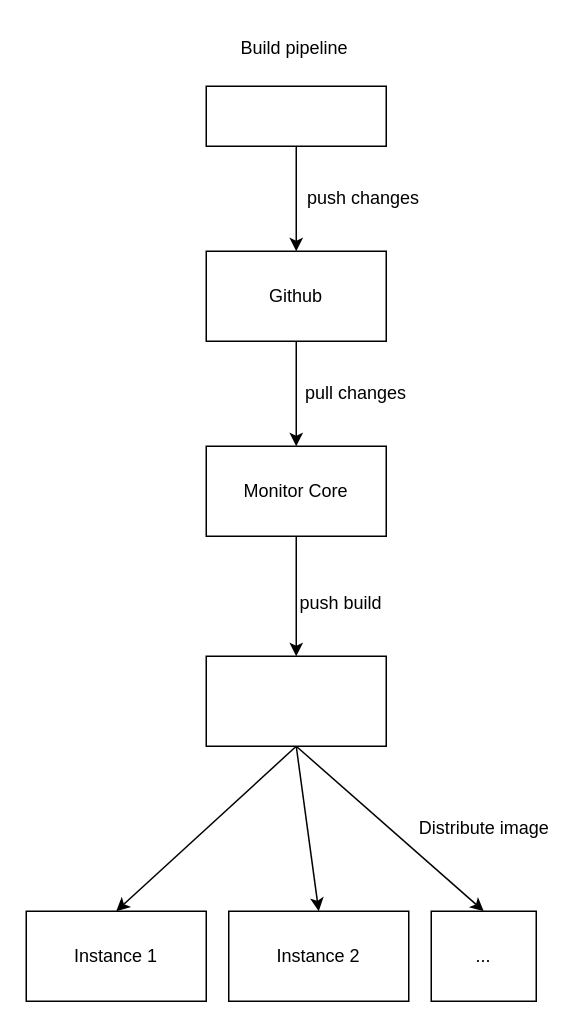
The diagram is 588 pixels wide and 1028 high, and some of its shapes have lost their labels. The shapes that lost their labels are listed below. From the top down, each one's centre as x and y in pixels, then its label:
point 295,115: Dev / Trader
point 295,700: Docker Hub
